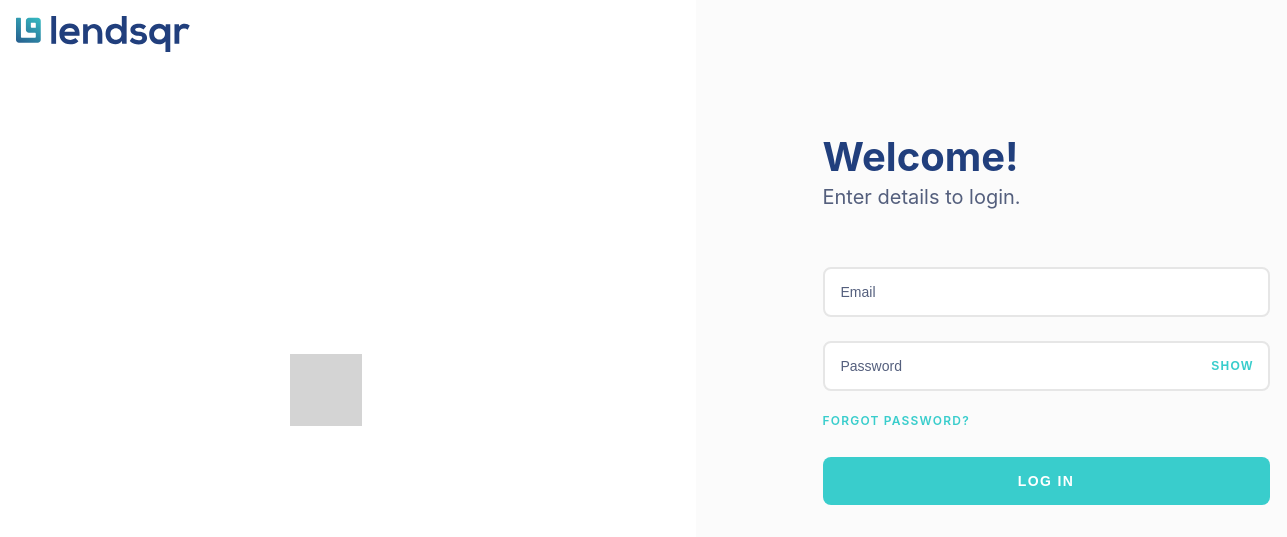
Test: LoginPage › shows error on failed login
This screenshot has width=1287, height=537.
Type "wrong@user.com" into the field with placeholder "Email" at (1046, 292), box [822,267,1270,317]
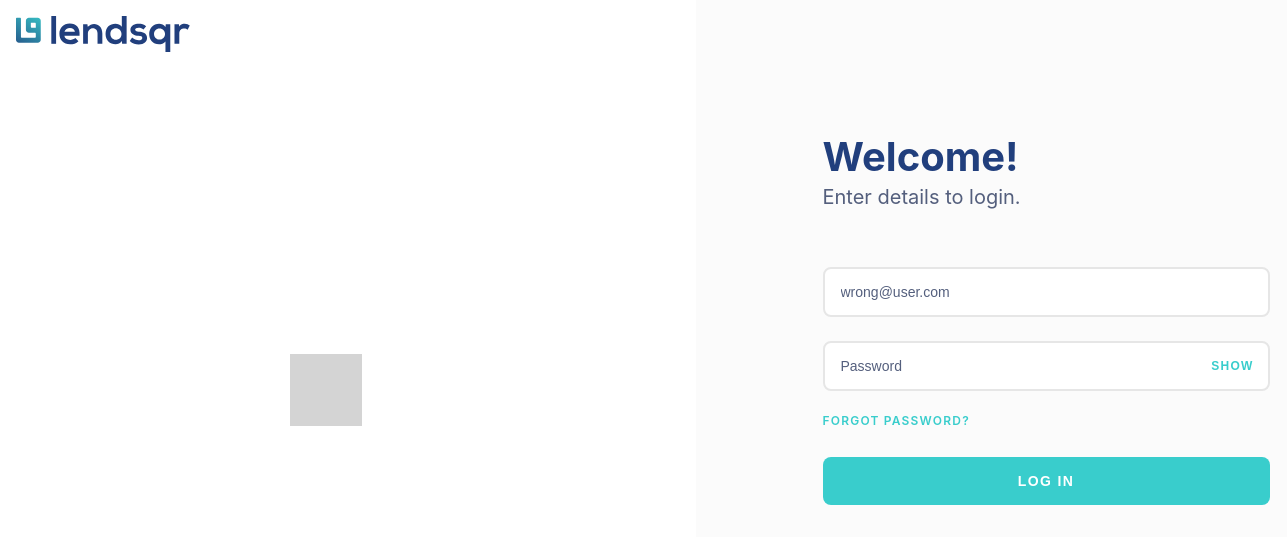
Type "wrongpass" into the password field with placeholder "Password" at (1046, 366), box [822,341,1270,391]
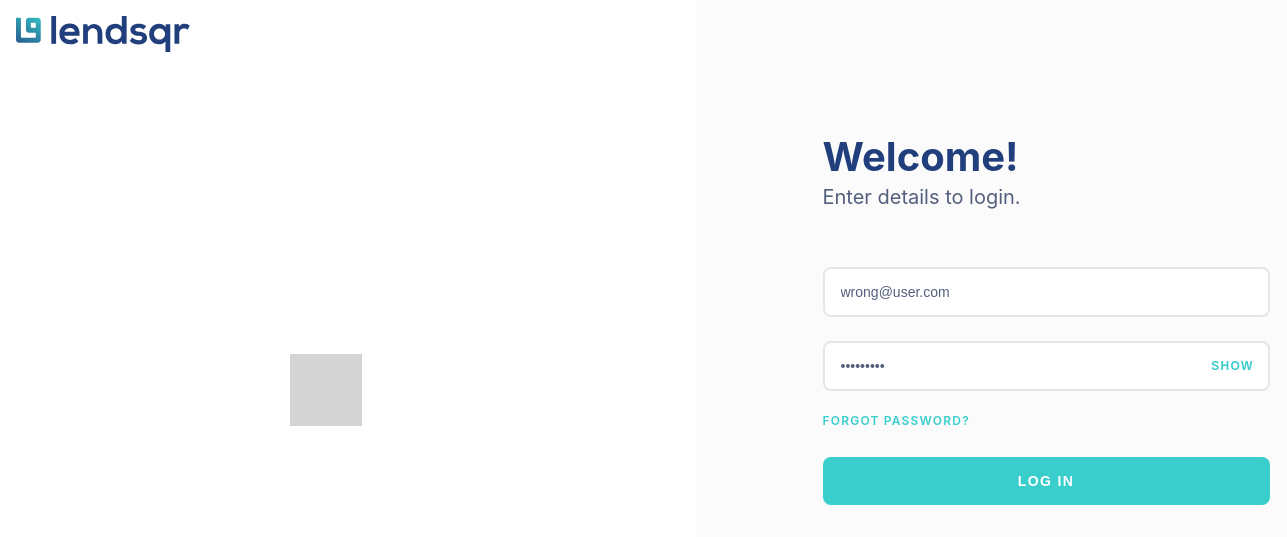
Click the button "LOG IN" at (1046, 481), box [822,457,1270,505]
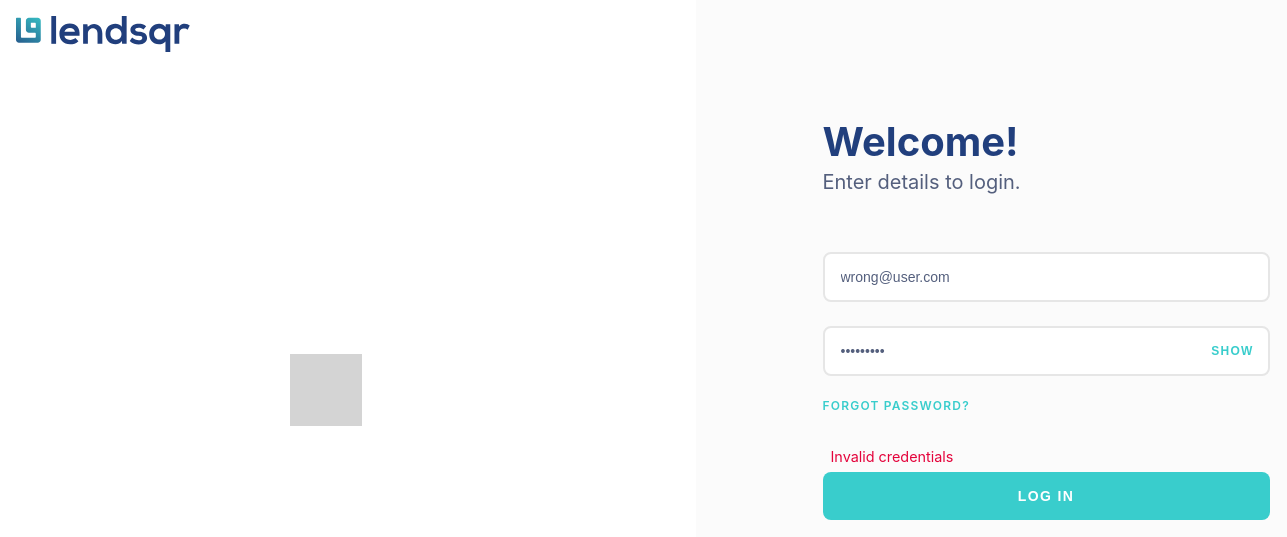
Expected: the text "Invalid credentials" is shown, [830,448,953,465]
